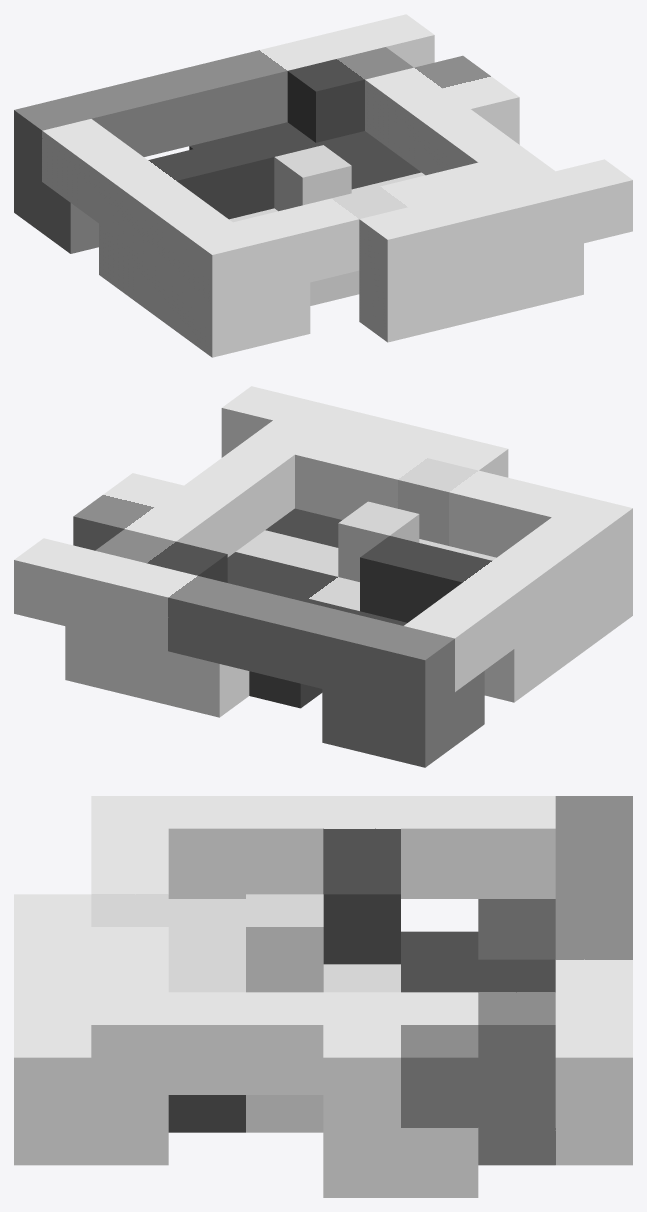
Rendered from garbage_small_satellite3.fbx.
3 views of the same model, one above another, from view 1: azimuth 30°, elevation 25°; view 2: azimuth 150°, elevation 25°; view 3: azimuth 270°, elevation 25° (orthographic). The views are drawn at different scales.
Visible parts, largest first — view 1: garbage_small_satellite3; view 2: garbage_small_satellite3; view 3: garbage_small_satellite3.
Part boxes in pixels (x1,y1,x2,y2): garbage_small_satellite3: (14,14,632,357); garbage_small_satellite3: (14,386,632,767); garbage_small_satellite3: (14,796,632,1197).
Size of the model in its own units: 8 by 2 by 8.
